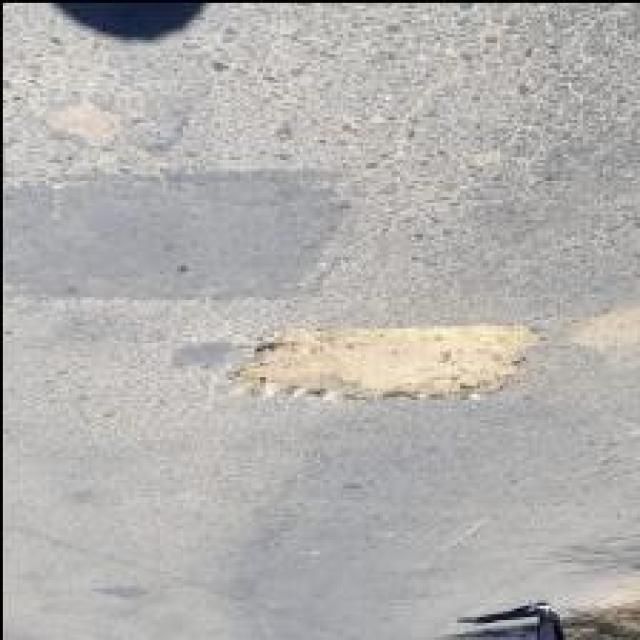BACHE: (235, 324, 537, 397), (571, 305, 639, 353), (48, 101, 119, 145)
PARCHE: (3, 172, 341, 299)
PIEL DE COCODRILO: (349, 0, 639, 271), (531, 525, 639, 581)
